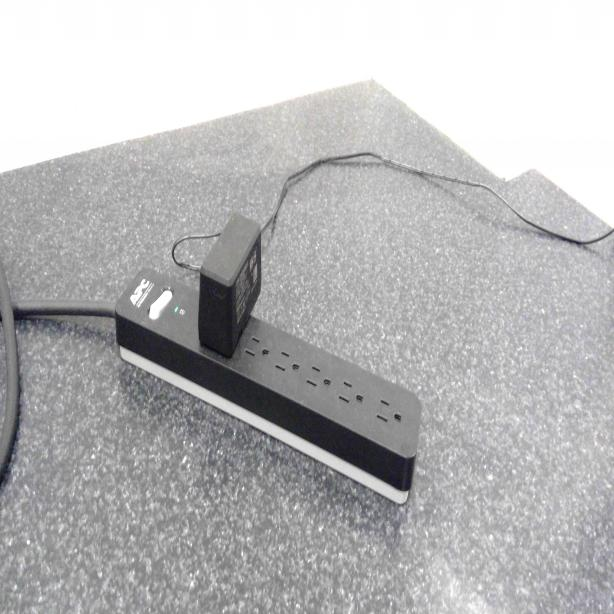typeb: (373, 395, 406, 438), (335, 373, 366, 414), (243, 328, 270, 375), (275, 344, 303, 384), (306, 361, 331, 401)
